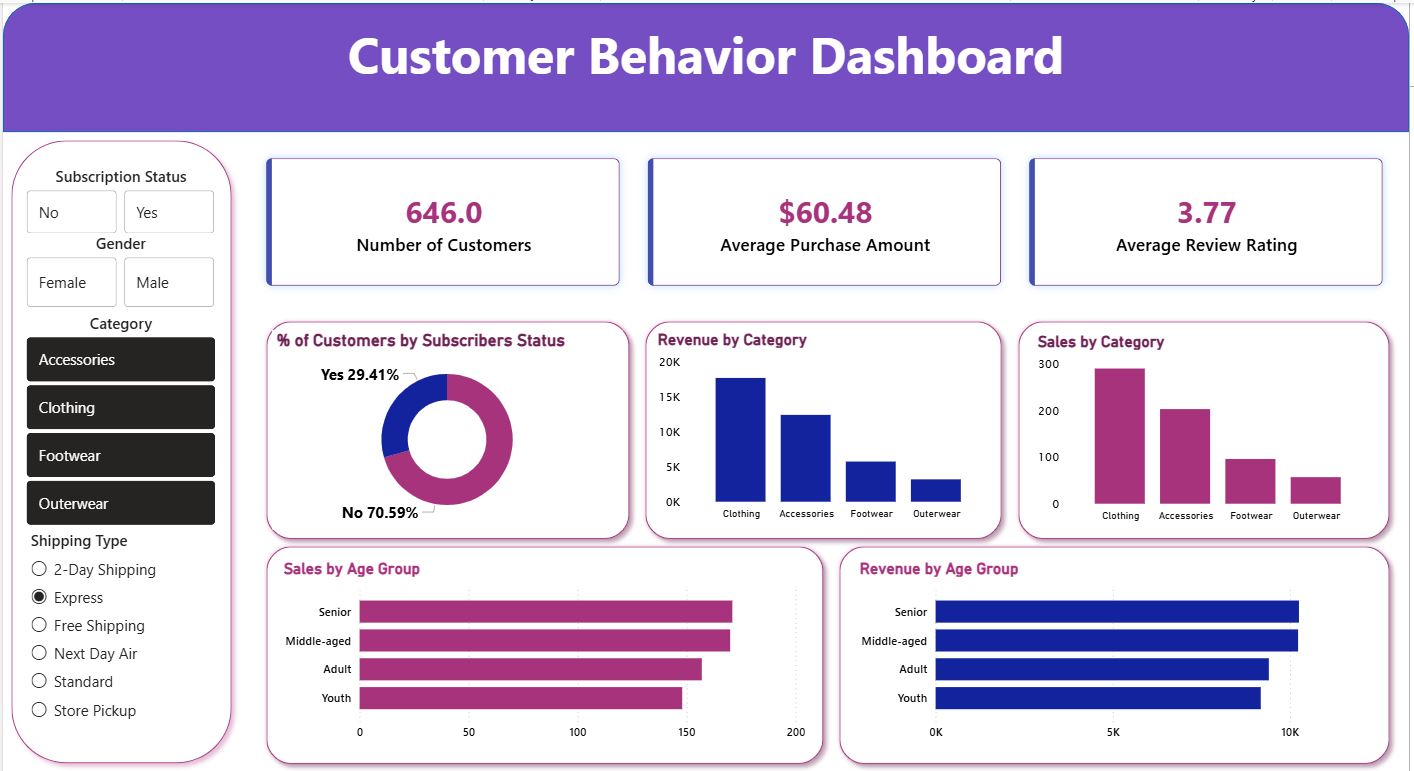

Layout of this report page (visuals, bound fields, positions):
{"tool":"powerbi","page":{"name":"Customers_behavior","canvas":[1500,820],"ordinal":0},"visuals":[{"type":"shape","box":[883.6,570.4,604.9,250],"z":0},{"type":"cardVisual","fields":{"Data":["Sheet1.Number of Customers","Sheet1.Average Purchase Amount","Sheet1.Average Review Rating"]},"box":[252.9,137.9,1247.1,192.5],"z":1000},{"type":"shape","box":[0,0,1500,137.9],"z":2000},{"type":"textbox","box":[0,12.9,1500,109.2],"z":3000},{"type":"shape","box":[271.6,330.5,405.2,250],"z":4000},{"type":"donutChart","title":"% of Customers by Subscribers Status","fields":{"Category":["Sheet1.subscription_status"],"Y":["CountNonNull(Sheet1.customer_id)"]},"box":[287.4,349.1,373.6,212.6],"z":5000},{"type":"shape","box":[676.7,330.5,398,250],"z":6000},{"type":"shape","box":[1074.7,330.5,413.8,250],"z":7000},{"type":"clusteredColumnChart","title":"Revenue by Category","fields":{"Y":["Sum(Sheet1.purchase_amount)"],"Category":["Sheet1.category"]},"box":[694,349.1,363.5,211.2],"z":8000},{"type":"clusteredColumnChart","title":"Sales by Category","fields":{"Category":["Sheet1.category"],"Y":["CountNonNull(Sheet1.customer_id)"]},"box":[1099.1,350.6,363.5,211.2],"z":9000},{"type":"shape","box":[0,137.9,252.9,682.5],"z":10000},{"type":"advancedSlicerVisual","title":"Subscription Status","fields":{"Values":["Sheet1.subscription_status"]},"box":[20.1,173.9,211.2,77.6],"z":11000},{"type":"advancedSlicerVisual","title":"Gender","fields":{"Values":["Sheet1.gender"]},"box":[20.1,245.7,211.2,84.8],"z":12000},{"type":"advancedSlicerVisual","title":"Category","fields":{"Values":["Sheet1.category"]},"box":[20.1,330.5,211.2,231.3],"z":13000},{"type":"listSlicer","title":"Shipping Type","fields":{"Values":["Sheet1.shipping_type"]},"box":[24.4,561.8,202.6,215.5],"z":14000},{"type":"shape","box":[271.6,570.4,612.1,250],"z":15000},{"type":"clusteredBarChart","title":"Revenue by Age Group","fields":{"Y":["Sum(Sheet1.purchase_amount)"],"Category":["Sheet1.age_group"]},"box":[909.5,593.4,554.6,202.6],"z":16000},{"type":"clusteredBarChart","title":"Sales by Age Group","fields":{"Category":["Sheet1.age_group"],"Y":["CountNonNull(Sheet1.customer_id)"]},"box":[294.5,593.4,566.1,202.6],"z":17000}]}

Visuals, with their boxes in screenshot pixels (x1, y1, x2, y2), scaled from the page's 1500x820 canvas onto the 1414x771 screenshot:
shape: (833,536,1403,770)
cardVisual - Sheet1.Number of Customers x Sheet1.Average Purchase Amount: (238,130,1413,311)
shape: (0,0,1413,130)
textbox: (0,12,1413,115)
shape: (256,311,638,546)
"% of Customers by Subscribers Status" donutChart: (271,328,623,528)
shape: (638,311,1013,546)
shape: (1013,311,1403,546)
"Revenue by Category" clusteredColumnChart: (654,328,997,527)
"Sales by Category" clusteredColumnChart: (1036,330,1379,528)
shape: (0,130,238,770)
"Subscription Status" advancedSlicerVisual: (19,164,218,236)
"Gender" advancedSlicerVisual: (19,231,218,311)
"Category" advancedSlicerVisual: (19,311,218,528)
"Shipping Type" listSlicer: (23,528,214,731)
shape: (256,536,833,770)
"Revenue by Age Group" clusteredBarChart: (857,558,1380,748)
"Sales by Age Group" clusteredBarChart: (278,558,811,748)
